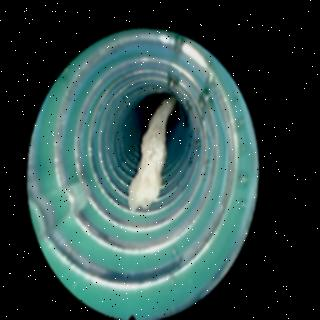stone: (131, 95, 177, 207)
